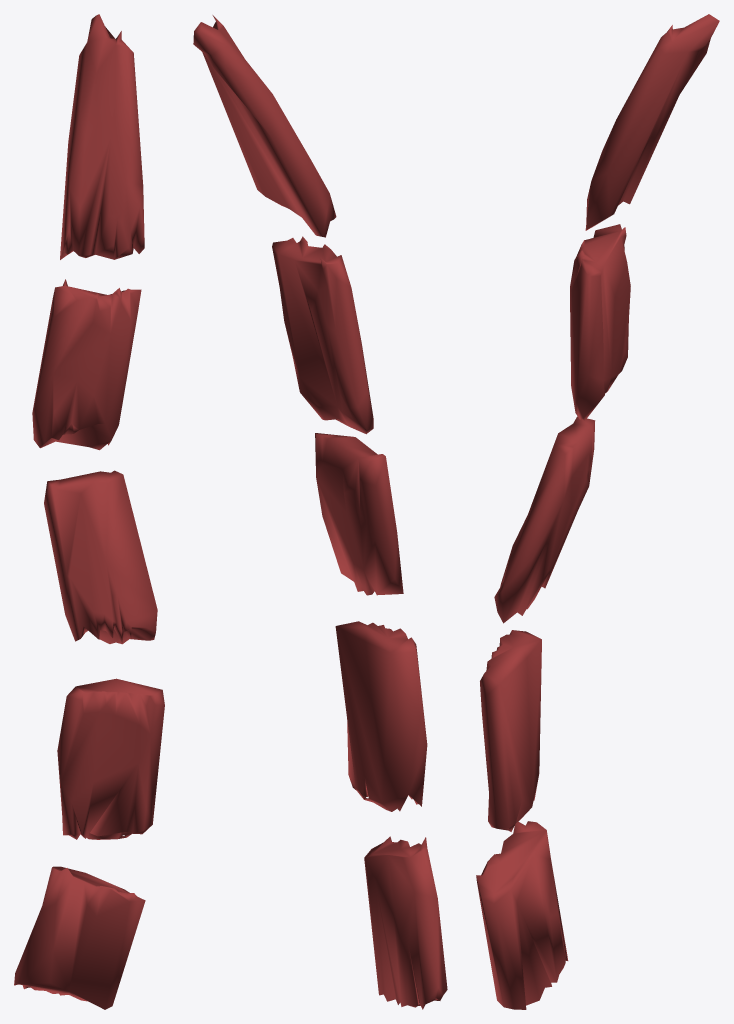
File: dorsal-parts-of-lateral-intertransversarii-lumborum-muscles-r.glb
The picture shows the model from 3 angles, left to right: view 1: azimuth 30°, elevation 25°; view 2: azimuth 150°, elevation 25°; view 3: azimuth 270°, elevation 25°; orthographic projection. The views are drawn at different scales.
Parts seen in each view (by area): view 1: Dorsal parts of lateral intertransversarii lumborum muscles.; view 2: Dorsal parts of lateral intertransversarii lumborum muscles.; view 3: Dorsal parts of lateral intertransversarii lumborum muscles..
Boxes of the visible parts, left/top/right/bottom form: Dorsal parts of lateral intertransversarii lumborum muscles.: left=14, top=14, right=164, bottom=1009; Dorsal parts of lateral intertransversarii lumborum muscles.: left=193, top=15, right=447, bottom=1009; Dorsal parts of lateral intertransversarii lumborum muscles.: left=476, top=14, right=719, bottom=1009.
Bounding box in the file's own units: 0.0286 × 0.1502 × 0.0319.
